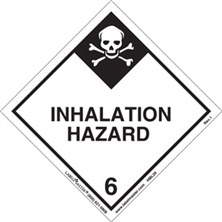InhalationHazard: (1, 1, 221, 221)
